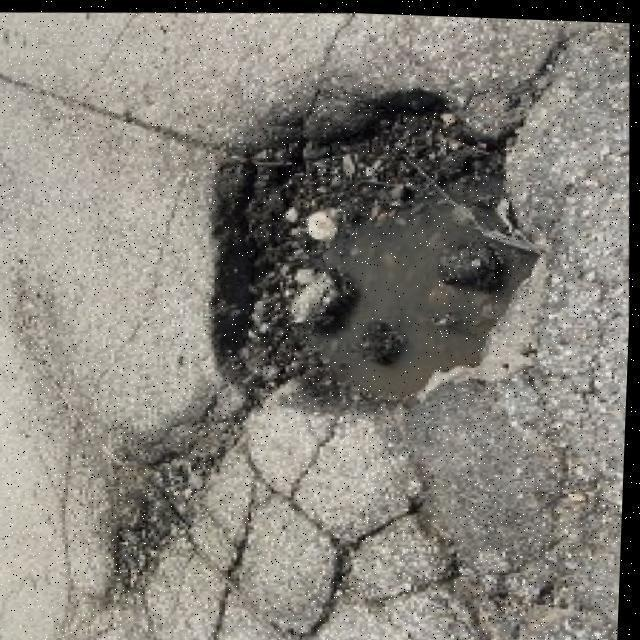Pothole: (214, 89, 539, 409)
